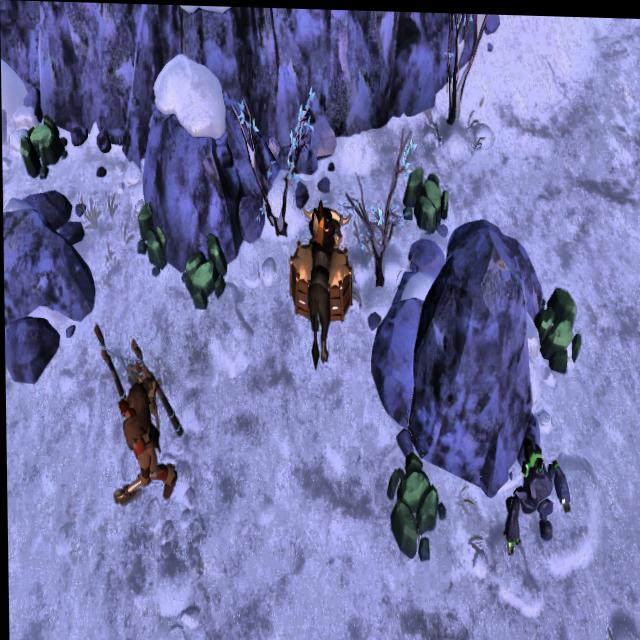enemy_factionKeeper: (114, 378, 176, 506)
rock_t3: (385, 442, 445, 565), (534, 277, 585, 373), (176, 229, 230, 313), (398, 164, 454, 230), (19, 120, 69, 184), (134, 204, 170, 284)
